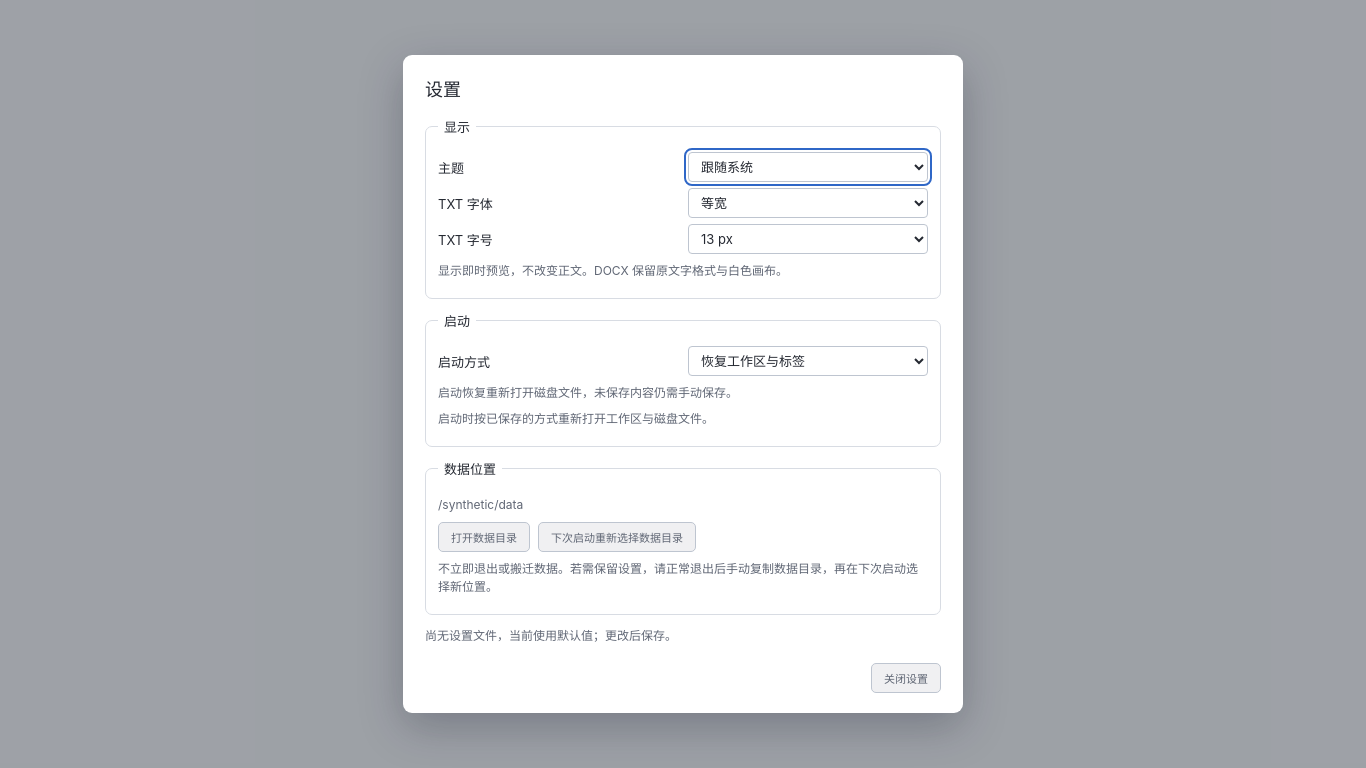
Test: WP2 settings service and dialog › opens a fixed directory and reselect only marks next startup without path parameters
Click the button "打开数据目录": (484, 537) top-left (438, 522), bottom-right (530, 552)
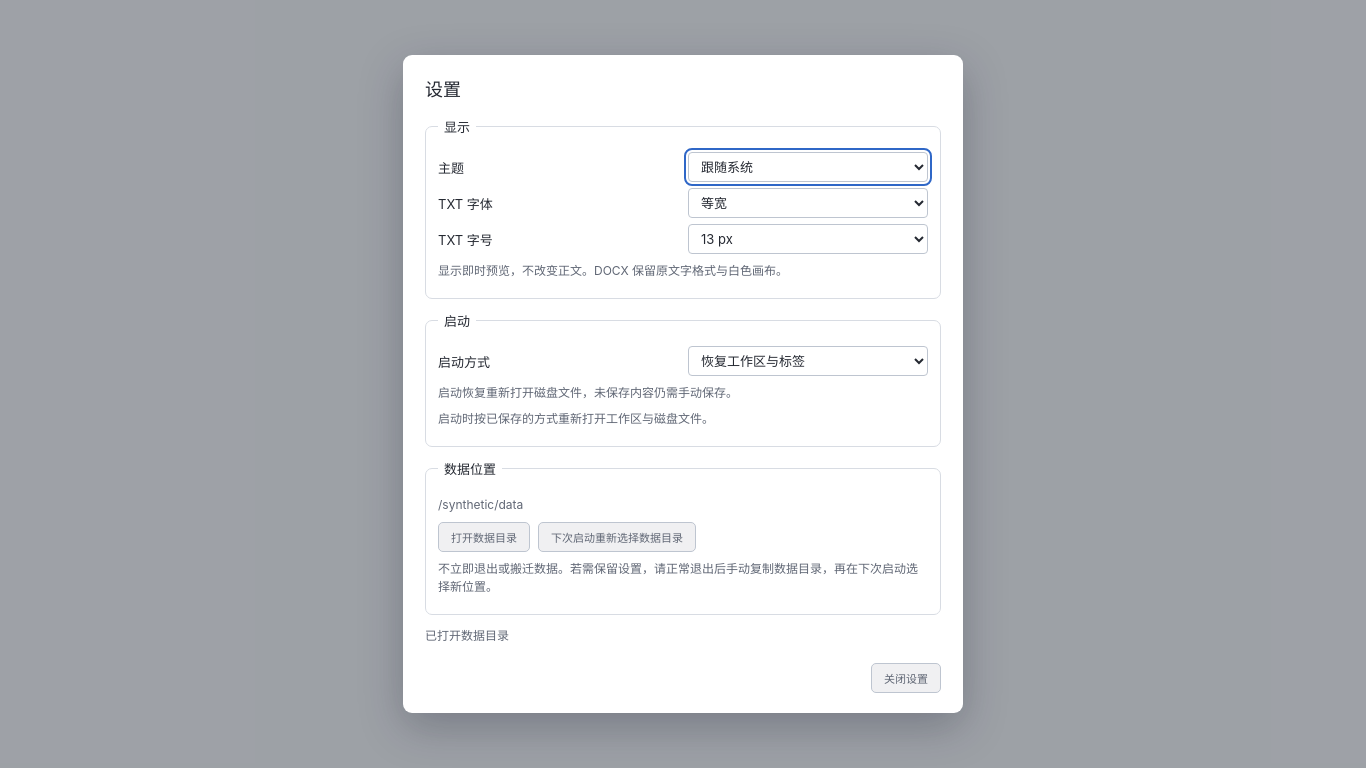
Expected: the text "已打开数据目录" is shown, top-left (425, 628), bottom-right (509, 643)
Click the button "下次启动重新选择数据目录": (617, 537) top-left (538, 522), bottom-right (696, 552)
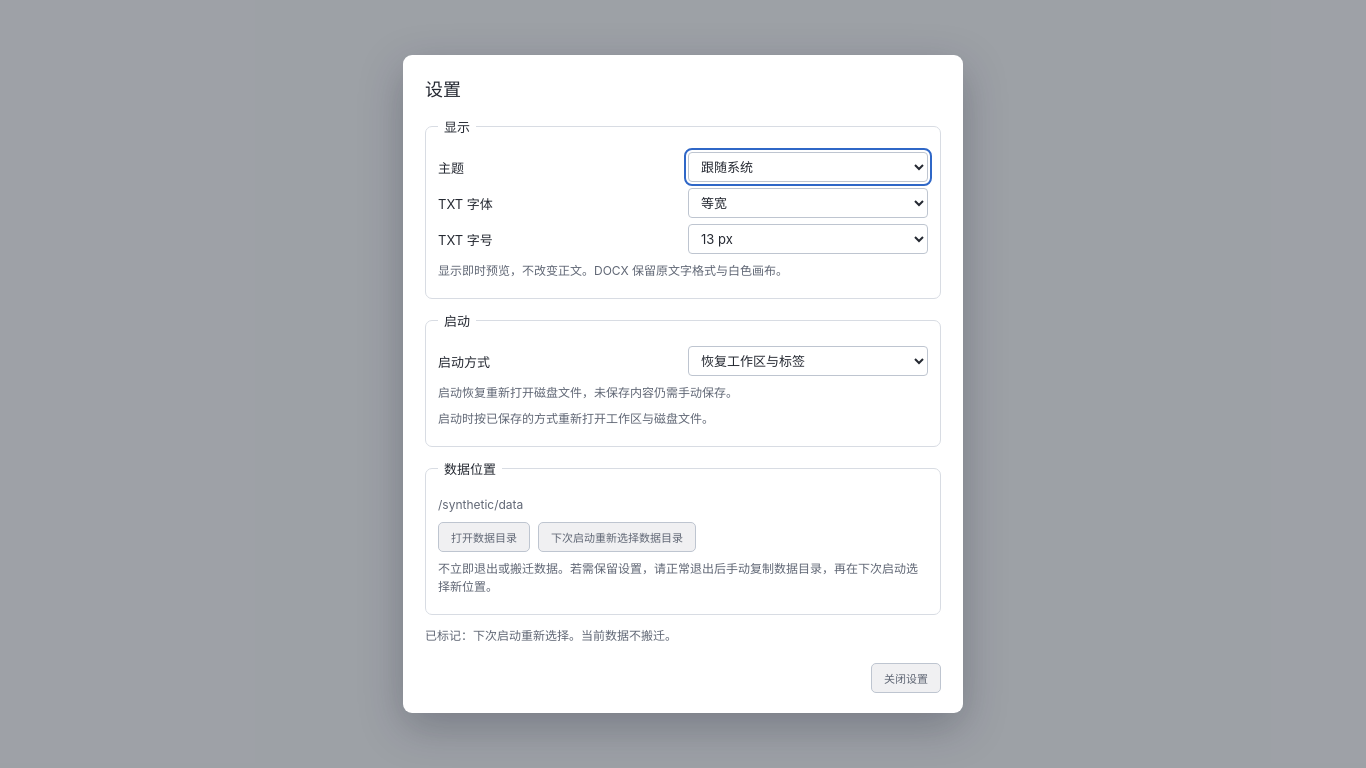
Expected: the text "已标记：下次启动重新选择。当前数据不搬迁。" is shown, top-left (425, 628), bottom-right (677, 643)
